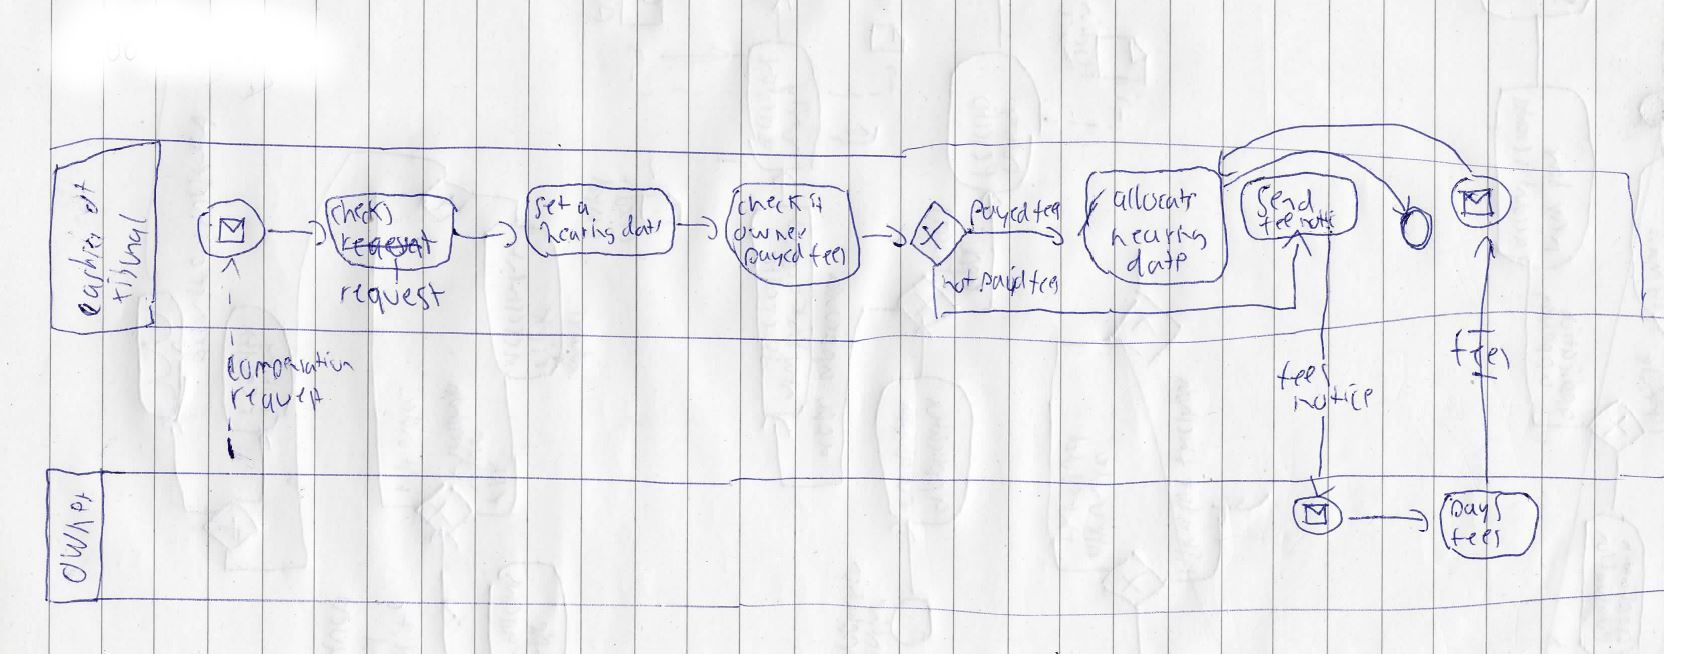Payed: (966, 194, 1035, 232)
Send: (1251, 183, 1319, 223)
a: (575, 197, 594, 221)
allocats: (1108, 180, 1203, 217)
cashier: (62, 224, 108, 322)
check: (732, 190, 809, 221)
checks: (327, 196, 398, 231)
compensation: (223, 348, 359, 385)
date: (1122, 244, 1192, 282)
dats: (618, 211, 667, 241)
fees: (1445, 325, 1517, 375), (1271, 356, 1336, 395), (1448, 525, 1505, 553), (805, 240, 850, 272), (1026, 265, 1065, 299), (1028, 194, 1067, 227)
hearing: (1107, 219, 1213, 256), (535, 213, 621, 250)
if: (805, 187, 828, 219)
not: (937, 264, 980, 301)
note: (1296, 206, 1342, 234)
notice: (1288, 378, 1377, 419)
of: (67, 175, 105, 221)
owner: (53, 486, 101, 590), (729, 222, 813, 246)
paid: (975, 261, 1030, 302)
payed: (739, 237, 809, 272)
pays: (1445, 491, 1509, 529)
request: (336, 277, 451, 320), (225, 383, 328, 418)
set: (527, 192, 574, 224)
the: (1254, 209, 1299, 239)
tibunal: (101, 206, 152, 309)
